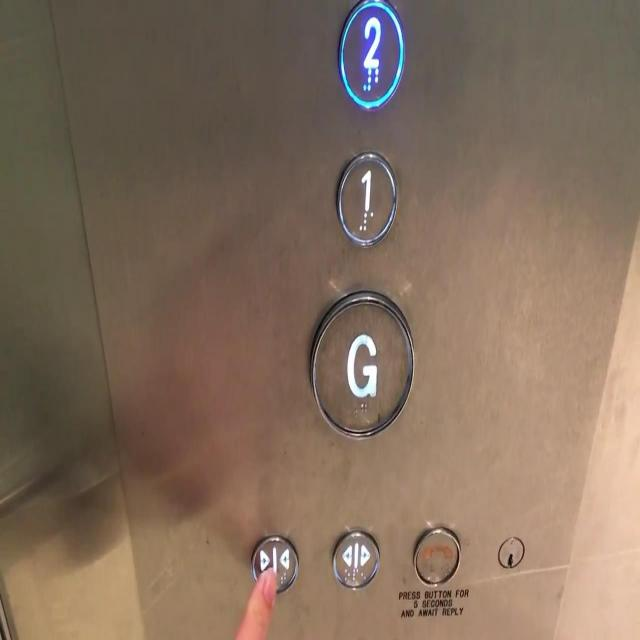1: (332, 145, 400, 252)
2: (334, 0, 407, 114)
G: (306, 284, 416, 442)
call: (410, 521, 462, 590)
close: (248, 530, 300, 600)
keyhole: (495, 531, 526, 573)
open: (328, 523, 382, 593)
